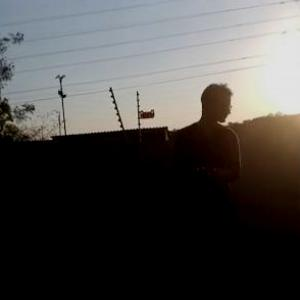follow: (166, 81, 246, 299)
